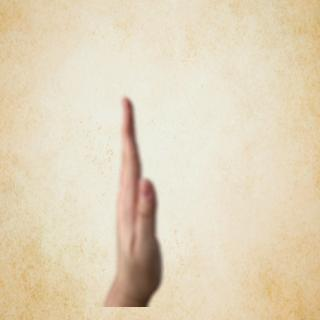Right: (104, 89, 174, 307)
